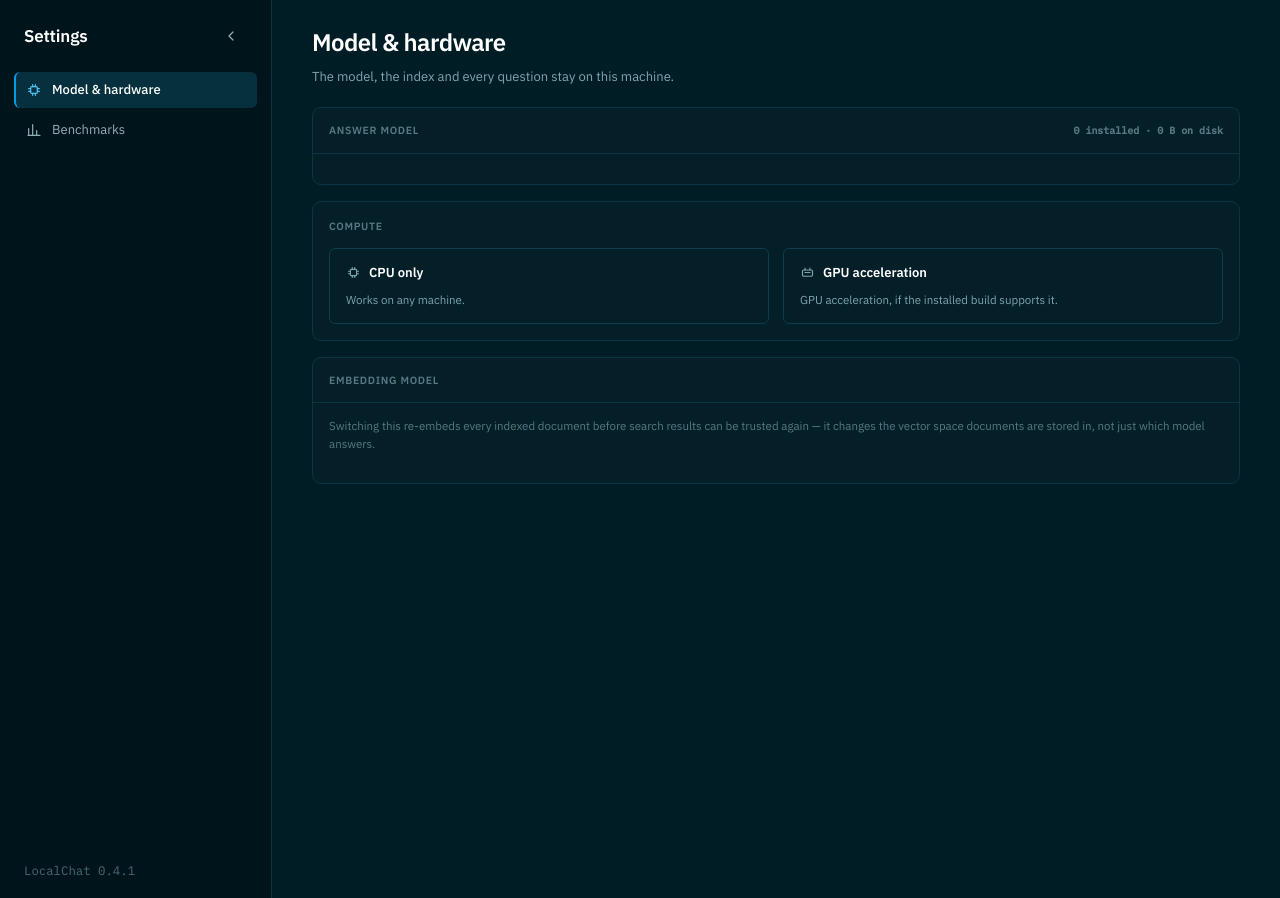
Test case: RagEvalCard compare mode › compares two independently picked historical runs side by side
Click the button "Benchmarks". click: (136, 130)
box: left=14, top=112, right=257, bottom=148
(page scrolled)
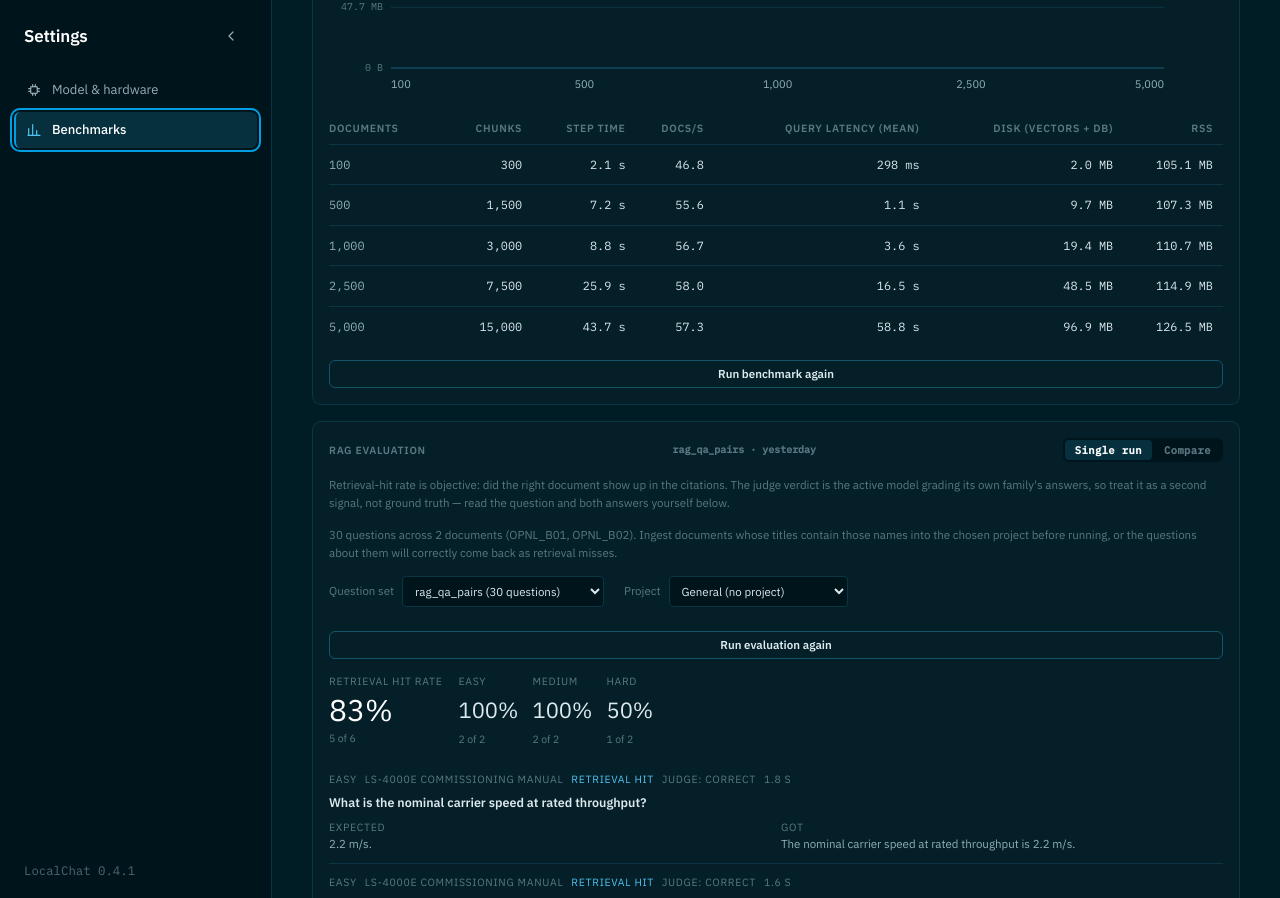
Check: the button "Run evaluation again" is shown, box left=329, top=630, right=1223, bottom=658
Click the button "Compare". click: (1188, 450)
box: left=1154, top=440, right=1221, bottom=460
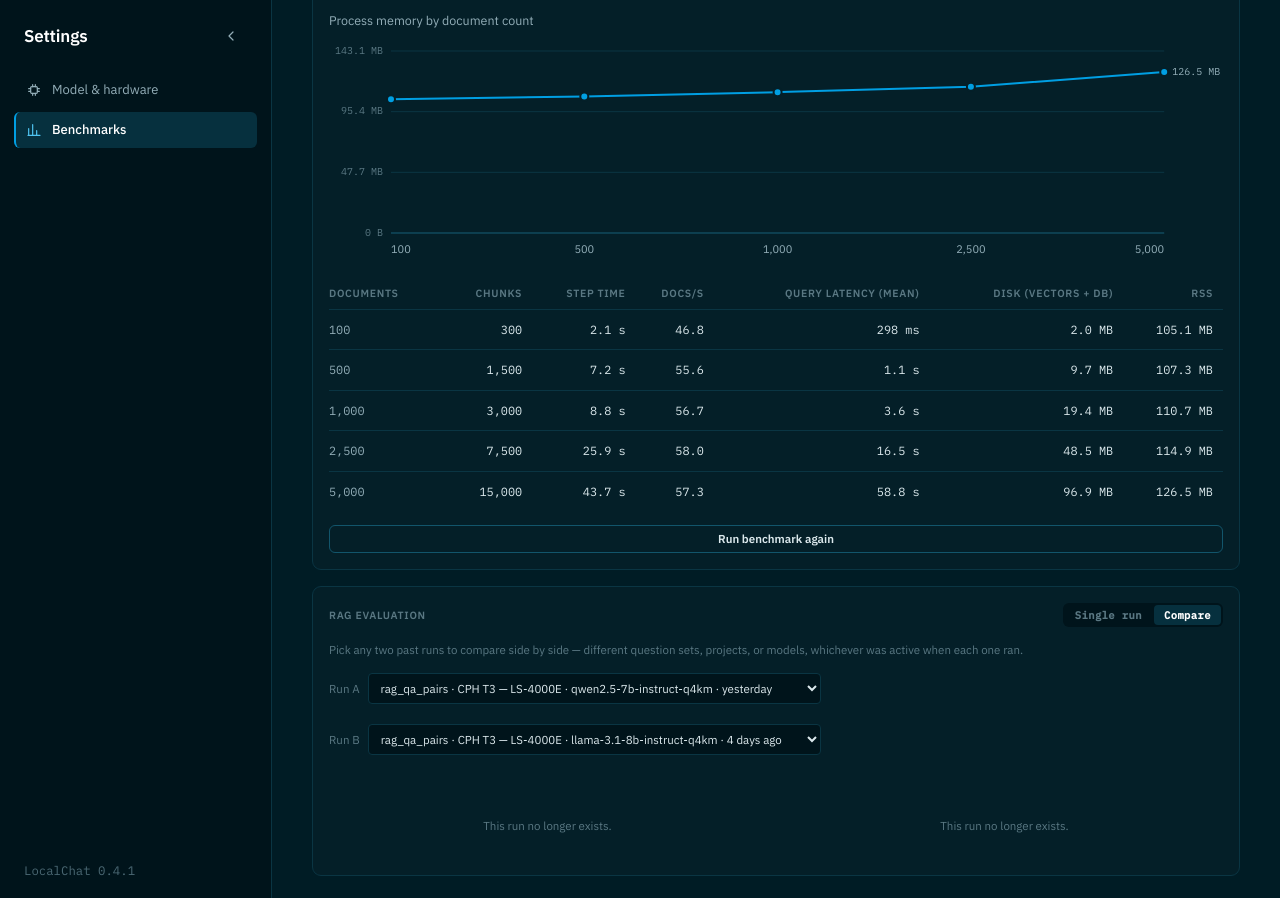
Select "rag_qa_pairs · CPH T3 — LS-4000E · qwen2.5-7b-instruct-q4km · yesterday" in the dropdown labelled "Run A". click: (594, 689)
box: left=368, top=673, right=820, bottom=704
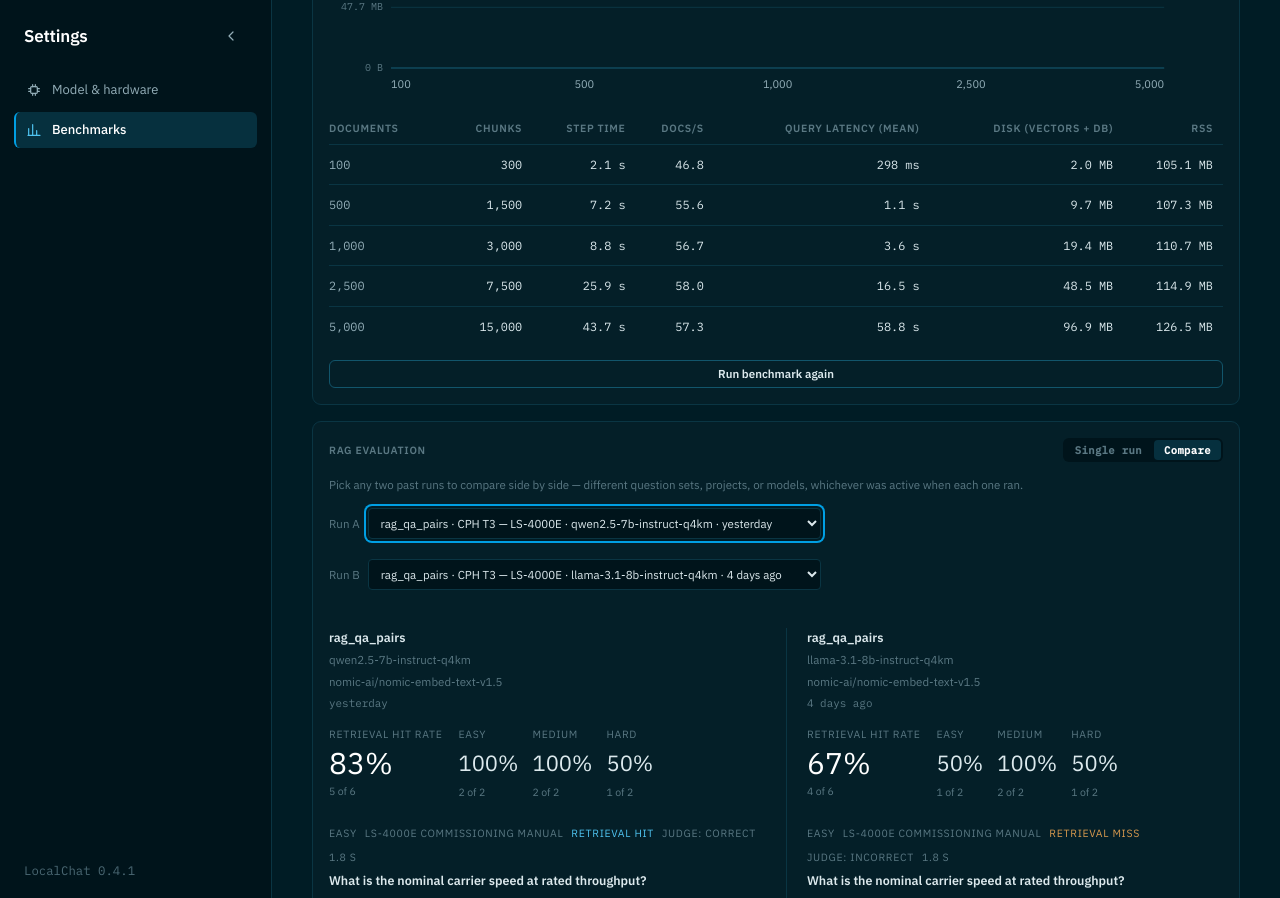
Select "rag_qa_pairs_da · CPH T3 — LS-4000E · qwen2.5-7b-instruct-q4km · 7 days ago" in the dropdown labelled "Run B". click: (594, 575)
box: left=368, top=559, right=821, bottom=590
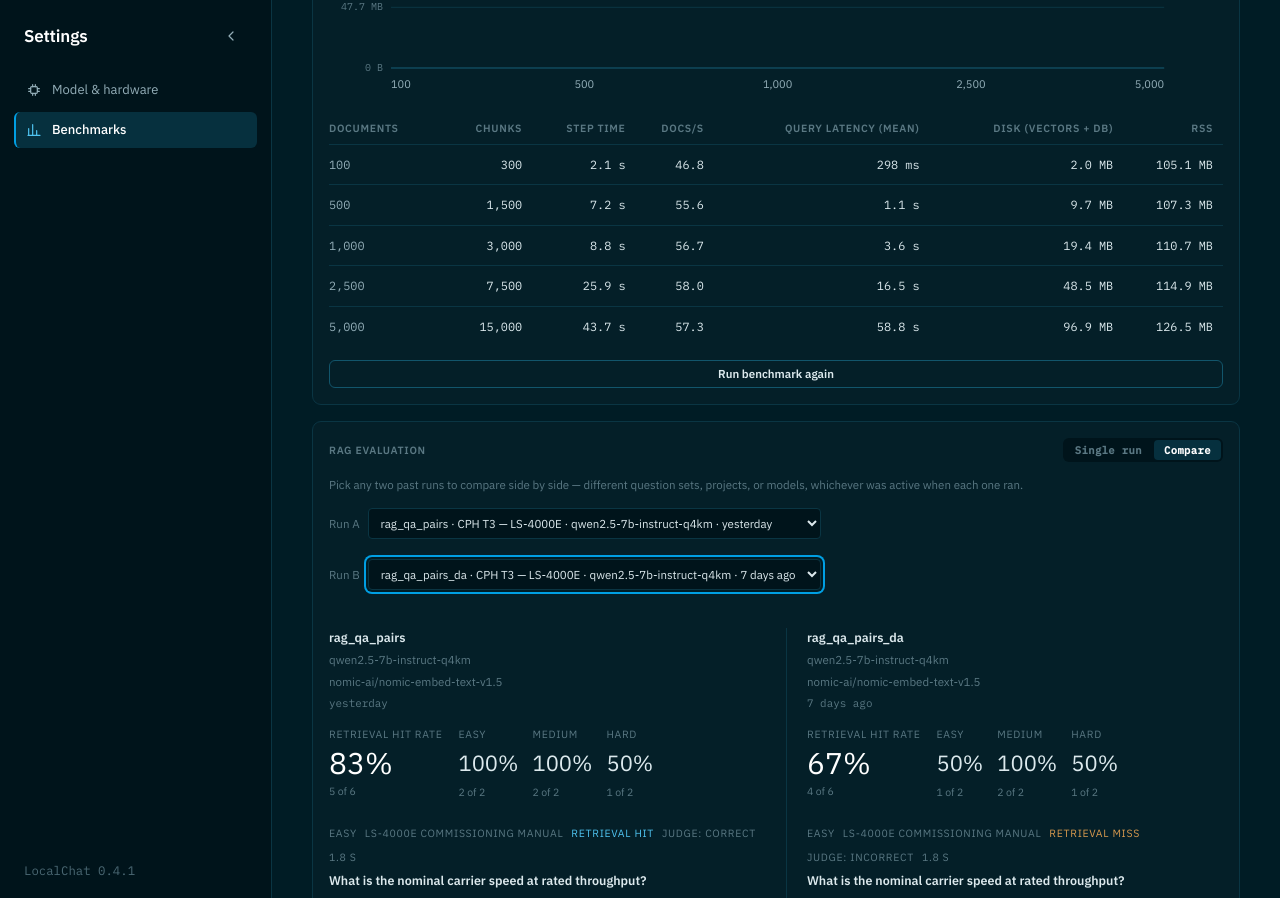
Check: the text "rag_qa_pairs" is shown, box left=329, top=629, right=405, bottom=645
Check: the text "Retrieval hit rate" is shown 2 times, box left=329, top=726, right=442, bottom=742; left=807, top=726, right=920, bottom=742
Check: the text "rag_qa_pairs_da" is shown, box left=807, top=629, right=904, bottom=645
